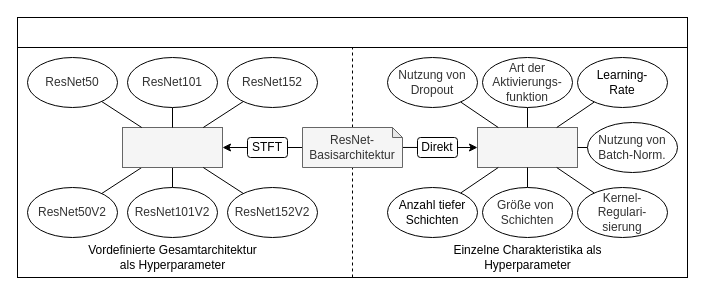
The diagram is 705 pixels wide and 296 high, and some of its shapes have lost their labels. The shapes that lost their labels are listed below. From the top down, each one's box as (x1, y1, x2, y2) in pixels, then its label:
(16, 16, 688, 48): Hyperparameter-Metamodell
(122, 126, 222, 168): 2D-Convolution-Schichten
(476, 126, 578, 168): 1D-Convolution-Schichten
